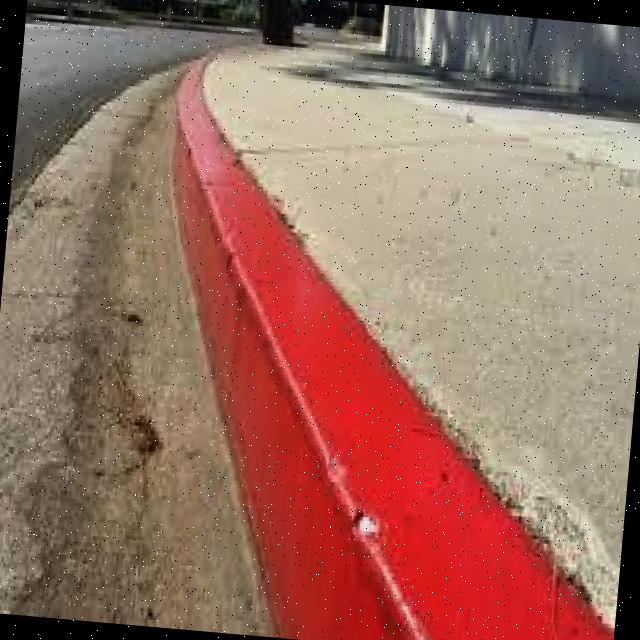curb: (208, 240, 505, 513), (232, 472, 626, 640), (139, 130, 316, 311), (165, 68, 234, 149)
